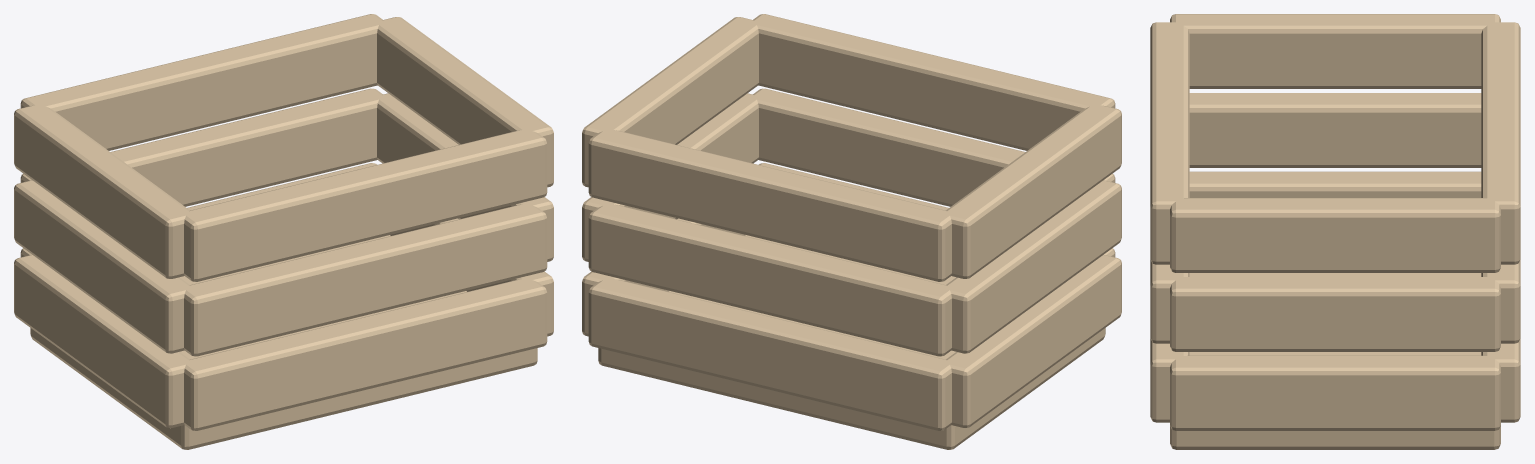
File: crate.glb
3 renders of one model, left to right at view 1: azimuth 30°, elevation 25°; view 2: azimuth 150°, elevation 25°; view 3: azimuth 270°, elevation 25°, orthographic. The views are drawn at different scales.
Parts seen in each view (by area): view 1: Slat.001, Slat.002, Slat, Slat.005, Slat.004, End.004, End.003, End.002, End.007, Base.001, End.006, End.005 (+1 smaller); view 2: Slat.004, Slat.003, Slat.005, Slat.002, Slat.001, End.004, End.003, End.002, End.007, Base.001, End.006, End.005 (+1 smaller); view 3: End.005, End.007, End.006, End.004, End.003, Base.001, Slat.002, Slat.005, End.002, Slat.004, Slat, Slat.001 (+1 smaller).
Boxes of the visible parts, x1=… form: Slat.001: x1=183, y1=203, x2=547, y2=356; Slat.002: x1=183, y1=129, x2=547, y2=281; Slat: x1=183, y1=279, x2=547, y2=430; Slat.005: x1=20, y1=14, x2=384, y2=150; Slat.004: x1=20, y1=88, x2=384, y2=206; End.004: x1=14, y1=103, x2=189, y2=278; End.003: x1=14, y1=180, x2=189, y2=353; End.002: x1=14, y1=255, x2=189, y2=428; End.007: x1=376, y1=17, x2=553, y2=187; Base.001: x1=30, y1=235, x2=537, y2=449; End.006: x1=376, y1=93, x2=553, y2=261; End.005: x1=390, y1=218, x2=553, y2=336; Slat.004: x1=588, y1=203, x2=952, y2=356; Slat.003: x1=588, y1=279, x2=952, y2=430; Slat.005: x1=588, y1=129, x2=952, y2=281; Slat.002: x1=750, y1=14, x2=1115, y2=150; Slat.001: x1=751, y1=88, x2=1115, y2=206; End.004: x1=946, y1=103, x2=1121, y2=278; End.003: x1=946, y1=180, x2=1121, y2=353; End.002: x1=946, y1=255, x2=1121, y2=428; End.007: x1=582, y1=17, x2=759, y2=187; Base.001: x1=598, y1=235, x2=1105, y2=449; End.006: x1=582, y1=93, x2=759, y2=261; End.005: x1=582, y1=218, x2=745, y2=336; End.005: x1=1170, y1=355, x2=1500, y2=430; End.007: x1=1170, y1=198, x2=1500, y2=272; End.006: x1=1170, y1=277, x2=1500, y2=351; End.004: x1=1170, y1=14, x2=1500, y2=88; End.003: x1=1189, y1=93, x2=1481, y2=167; Base.001: x1=1170, y1=273, x2=1500, y2=449; Slat.002: x1=1150, y1=22, x2=1189, y2=264; Slat.005: x1=1481, y1=22, x2=1520, y2=264; End.002: x1=1189, y1=171, x2=1481, y2=197; Slat.004: x1=1481, y1=259, x2=1520, y2=343; Slat: x1=1150, y1=338, x2=1189, y2=422; Slat.001: x1=1150, y1=259, x2=1189, y2=343.
Size of the model in its own units: 1.09 by 0.63 by 0.85.
